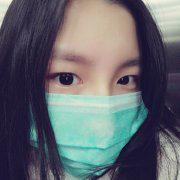OK: (33, 44, 159, 170)
